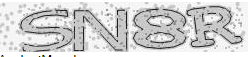8: (131, 7, 188, 52)
N: (72, 8, 130, 53)
R: (186, 4, 244, 49)
S: (17, 6, 74, 53)
